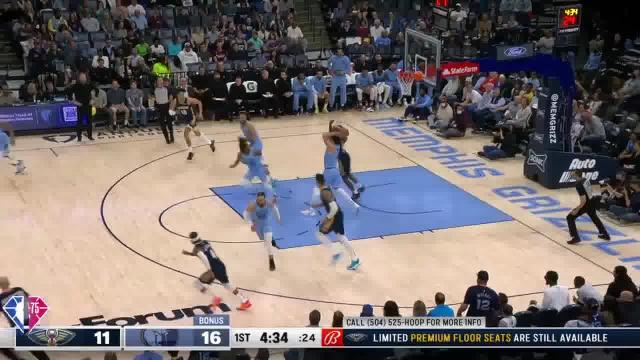ball-handler: (309, 125, 363, 216)
player: (180, 230, 252, 310), (310, 173, 364, 272), (166, 86, 216, 164), (240, 190, 283, 274), (231, 134, 277, 210), (232, 109, 276, 188), (329, 118, 362, 192)
